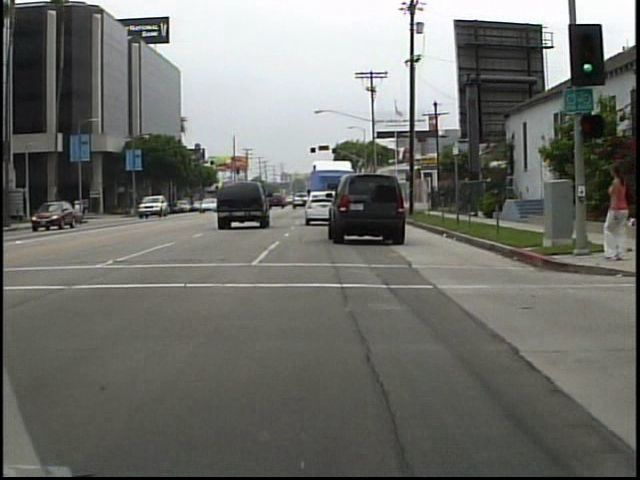person: (595, 160, 633, 264)
